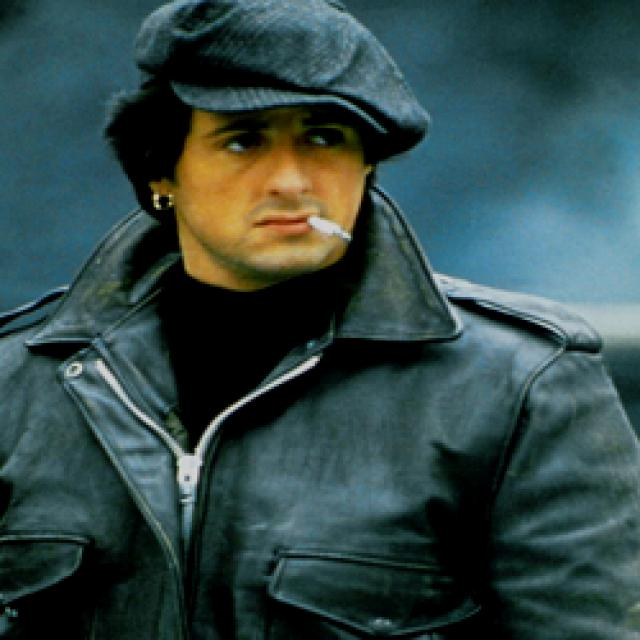Smooking: (300, 211, 352, 246)
